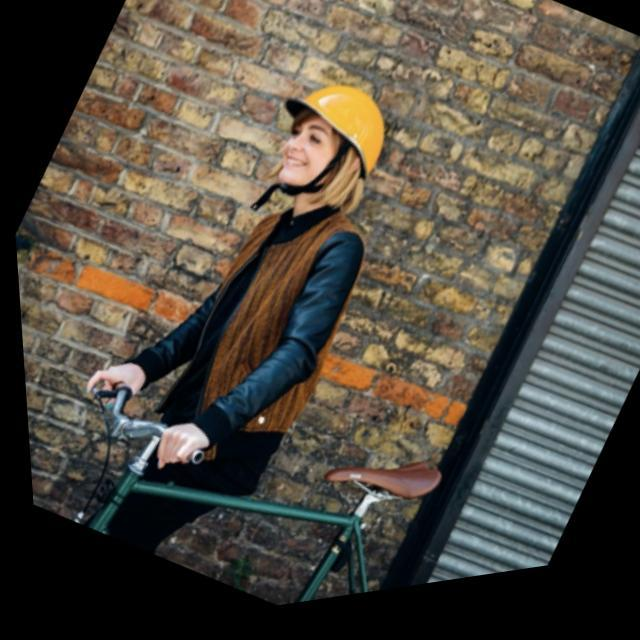Helmet: (269, 72, 393, 209)
